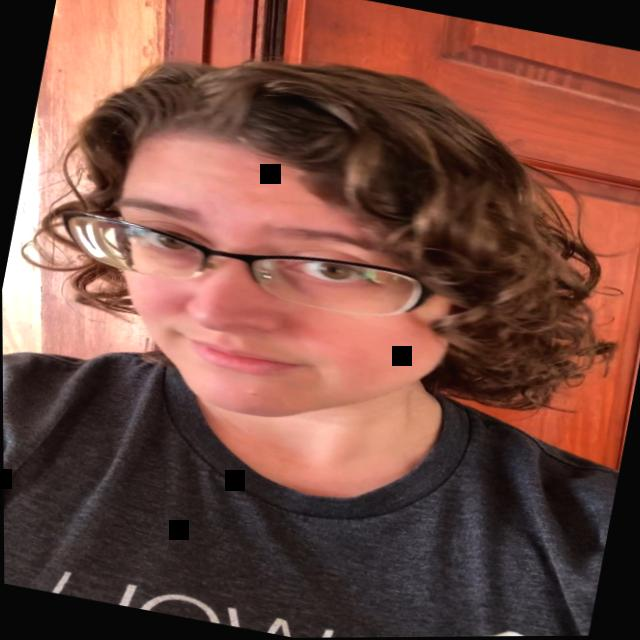NO-Mask: (79, 114, 493, 454)
